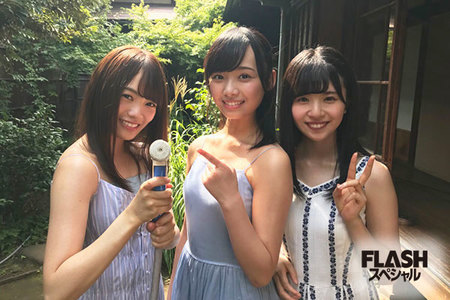face: (205, 43, 264, 118), (291, 74, 346, 140), (116, 65, 157, 138)
hand: (331, 150, 376, 222), (194, 147, 241, 208), (126, 175, 171, 224), (145, 211, 179, 252), (274, 257, 298, 300)
